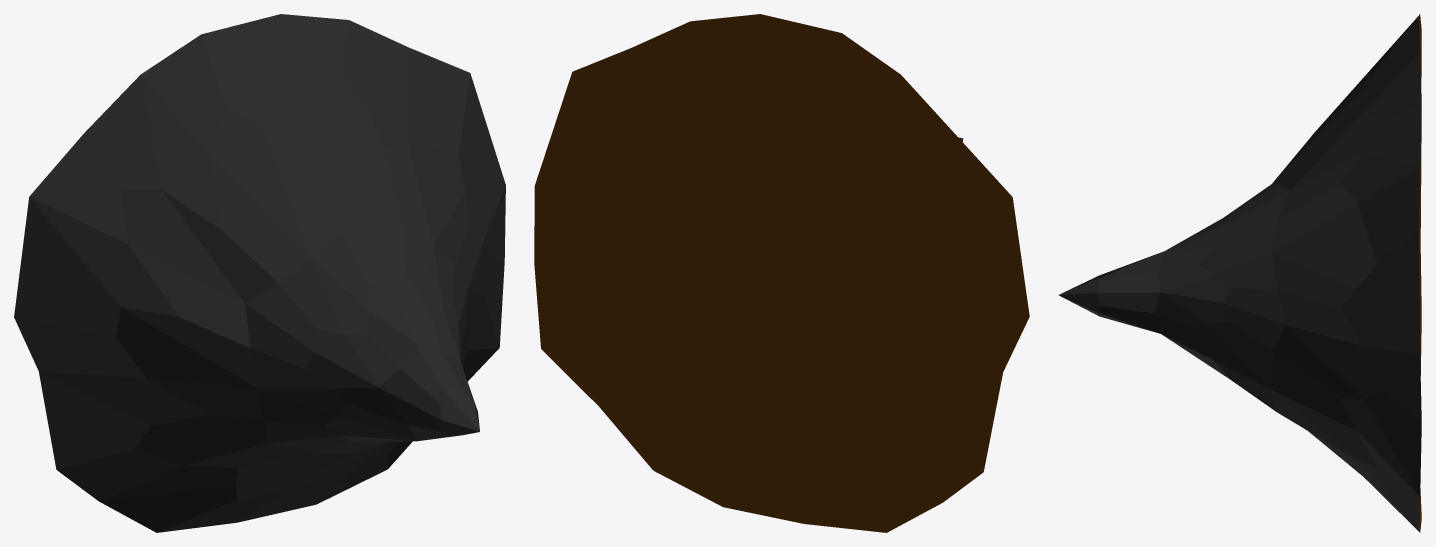
Rendered from FloatingIsland03.fbx.
3 renders of one model, left to right at view 1: azimuth 30°, elevation 25°; view 2: azimuth 150°, elevation 25°; view 3: azimuth 270°, elevation 25°, orthographic. The views are drawn at different scales.
Parts seen in each view (by area): view 1: FloatingIsland03; view 2: FloatingIsland03; view 3: FloatingIsland03.
Part boxes in pixels (bbox=[...]): FloatingIsland03: bbox=[14, 14, 505, 532]; FloatingIsland03: bbox=[534, 14, 1029, 532]; FloatingIsland03: bbox=[1058, 14, 1421, 532].
Size of the model in its own units: 431445 by 418389 by 305872.
